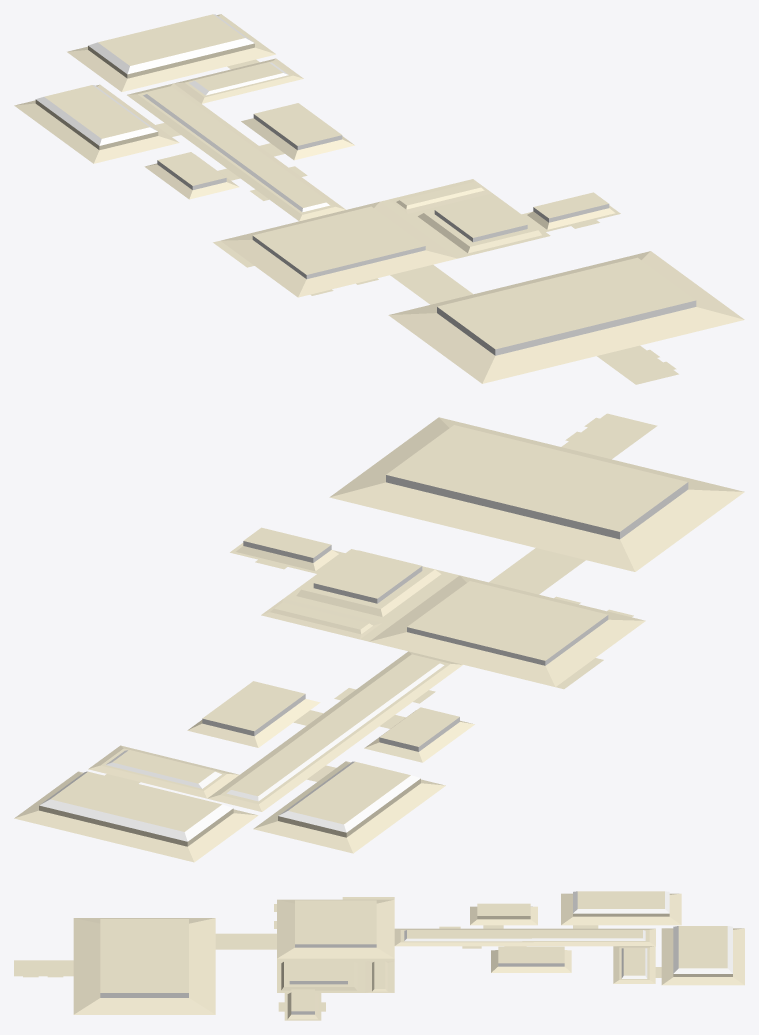
Rendered from Ceiling03_v2.FBX.
3 renders of one model, top to bottom at view 1: azimuth 30°, elevation 25°; view 2: azimuth 150°, elevation 25°; view 3: azimuth 270°, elevation 25°, orthographic. The views are drawn at different scales.
Parts seen in each view (by area): view 1: Ceiling001; view 2: Ceiling001; view 3: Ceiling001.
Boxes of the visible parts, x1,y1,x2,y2 form: Ceiling001: (14, 14, 744, 384); Ceiling001: (14, 413, 744, 862); Ceiling001: (14, 891, 744, 1020).
Bounding box in the file's own units: 3785 × 146 × 9198.
